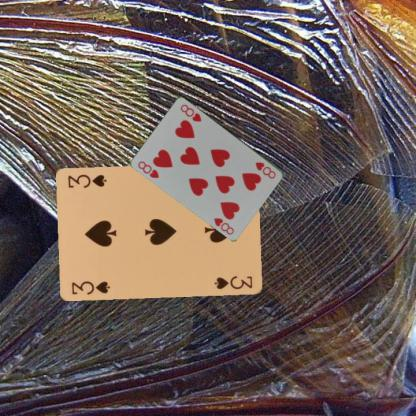3s: (69, 278, 112, 295)
8h: (135, 158, 161, 179), (253, 160, 277, 180)
